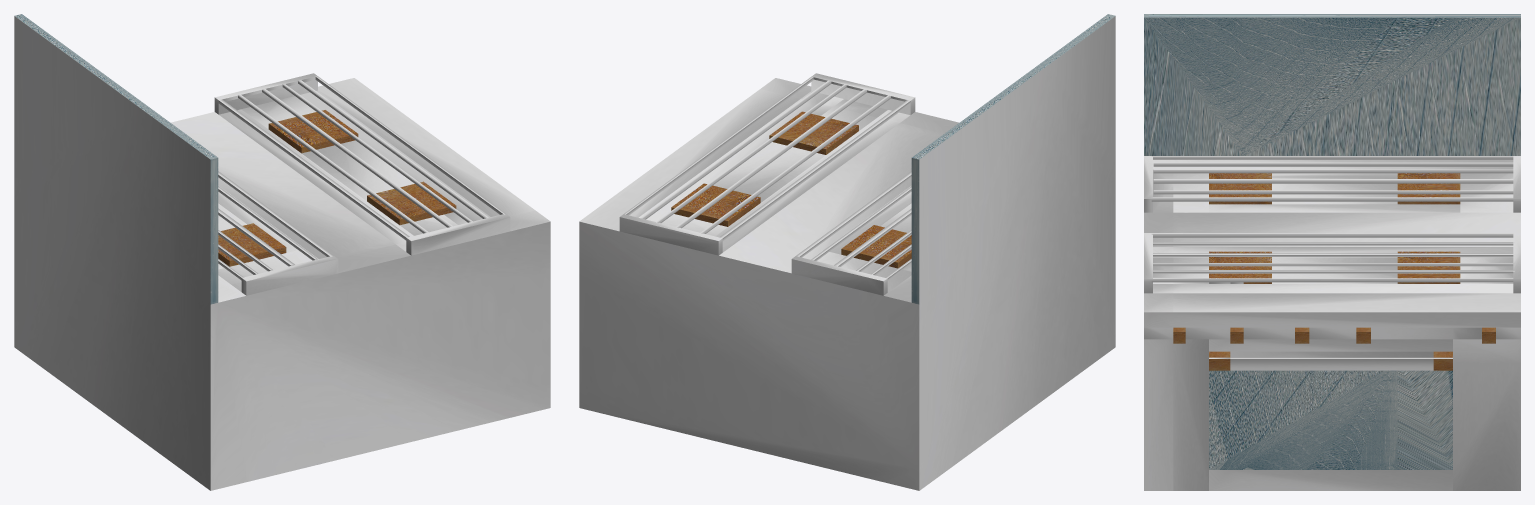
File: fogao.obj
3 renders of one model, left to right at view 1: azimuth 30°, elevation 25°; view 2: azimuth 150°, elevation 25°; view 3: azimuth 270°, elevation 25°, orthographic. The views are drawn at different scales.
Parts seen in each view (by area): view 1: Cube; view 2: Cube; view 3: Cube.
Boxes of the visible parts, <box> form: Cube: <box>14,14,550,490</box>; Cube: <box>579,14,1115,490</box>; Cube: <box>1144,14,1520,490</box>.
Bounding box in the file's own units: 2.09 × 1.86 × 2.
3 materials, 3 textured.
